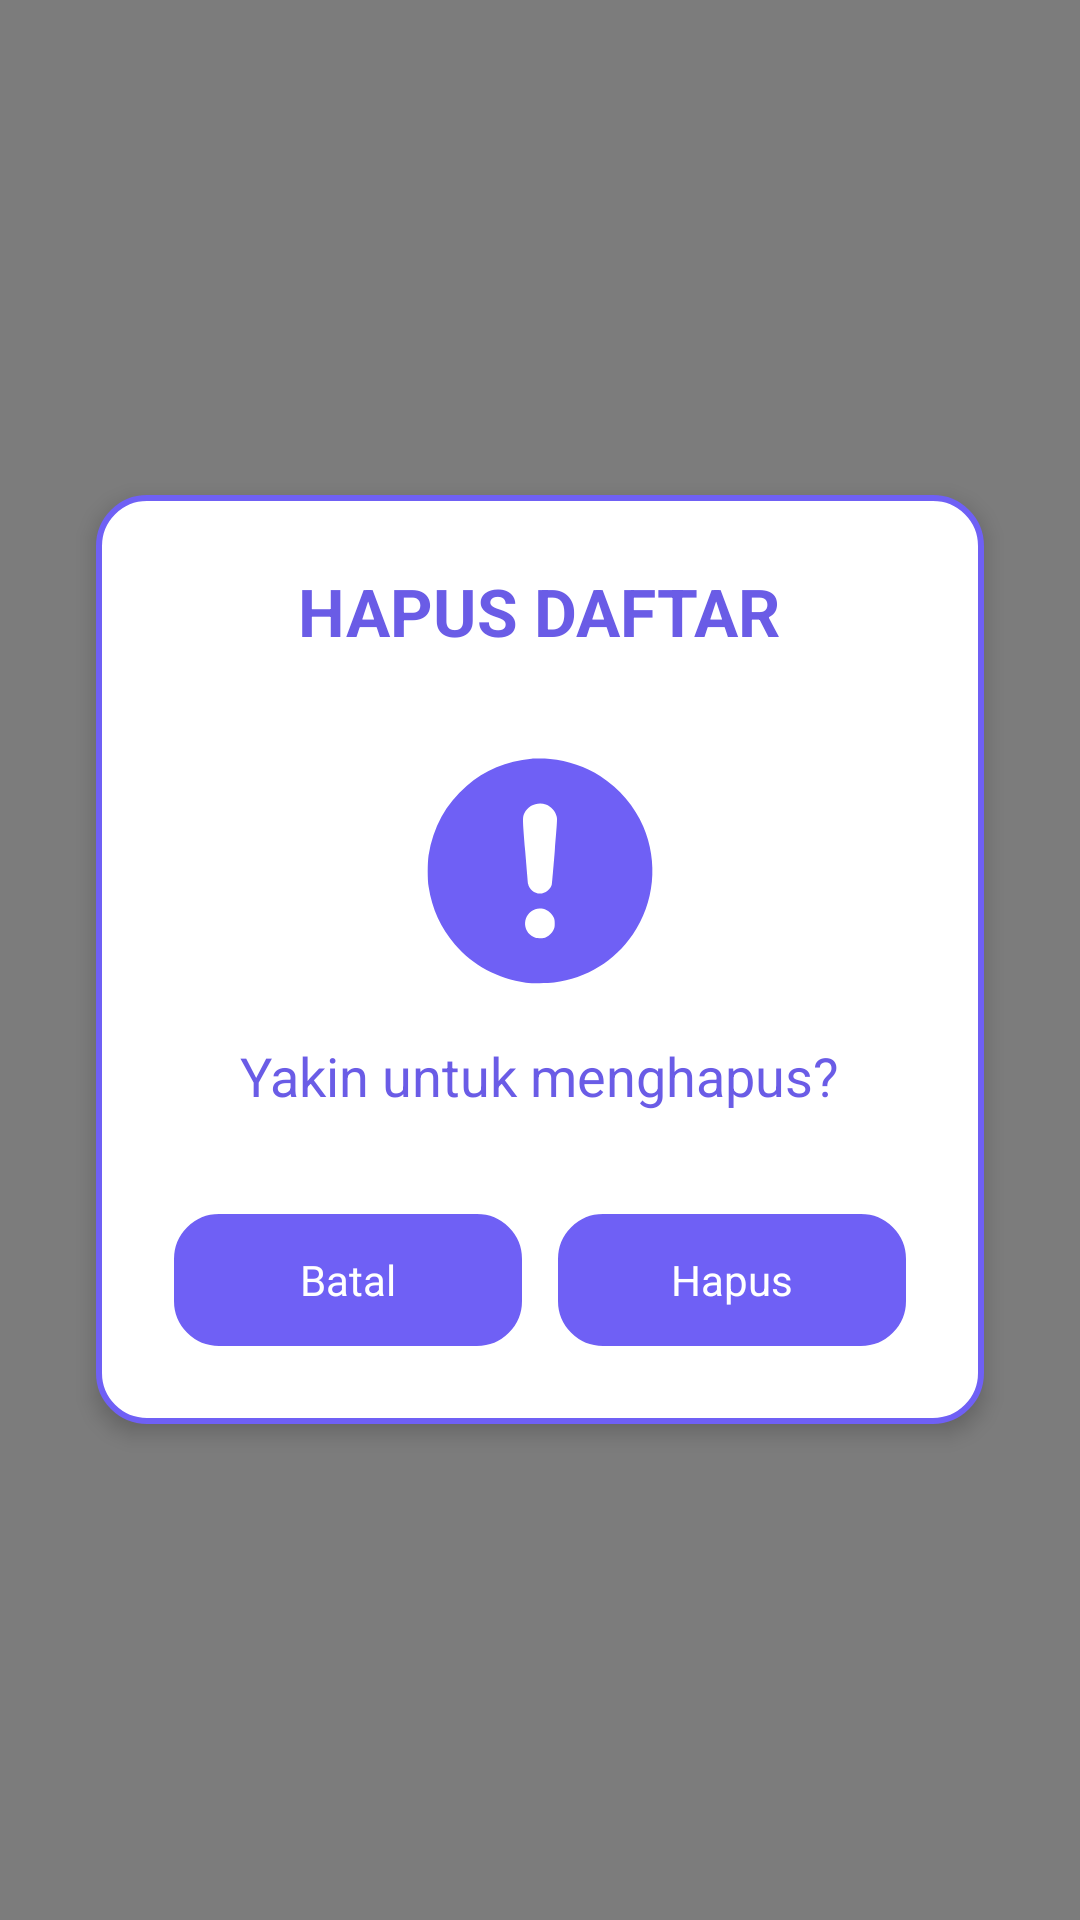

Point at icon controls on the screen. Image size 1080 × 1920, points as point (x, y).
warning sign: point (540, 871)
